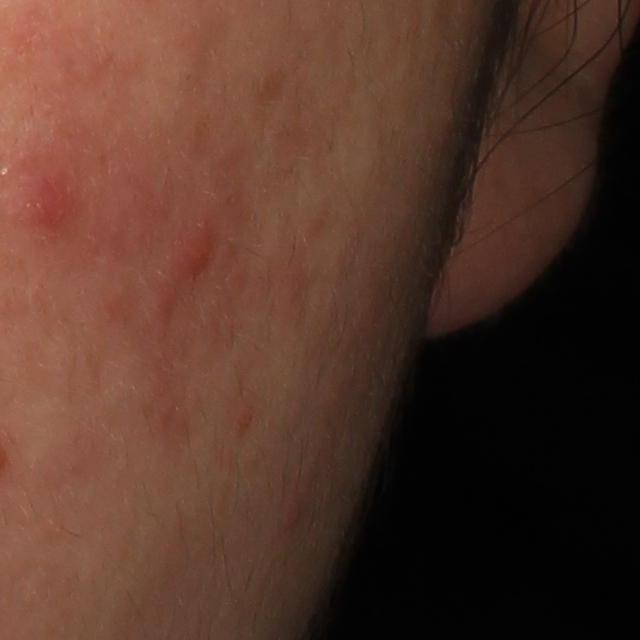papule: (18, 163, 81, 233), (170, 224, 215, 276), (281, 501, 304, 530)
